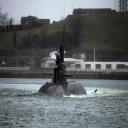submarine: (37, 4, 96, 98)
